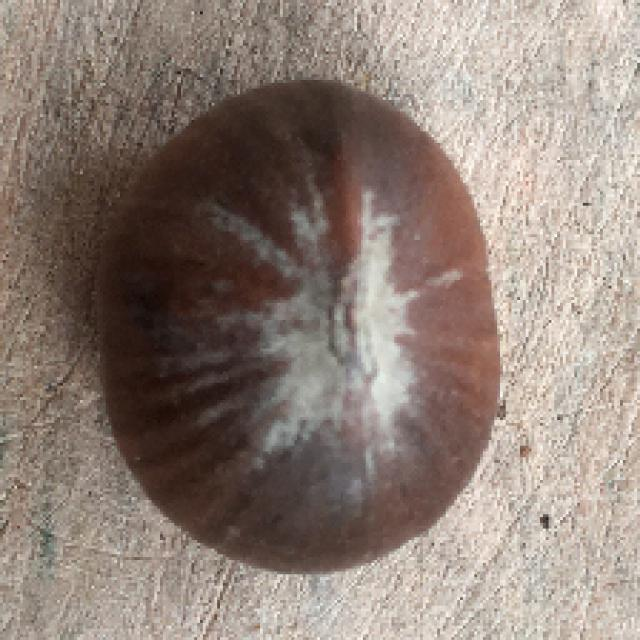qualityHazelnut: (103, 73, 498, 575)
